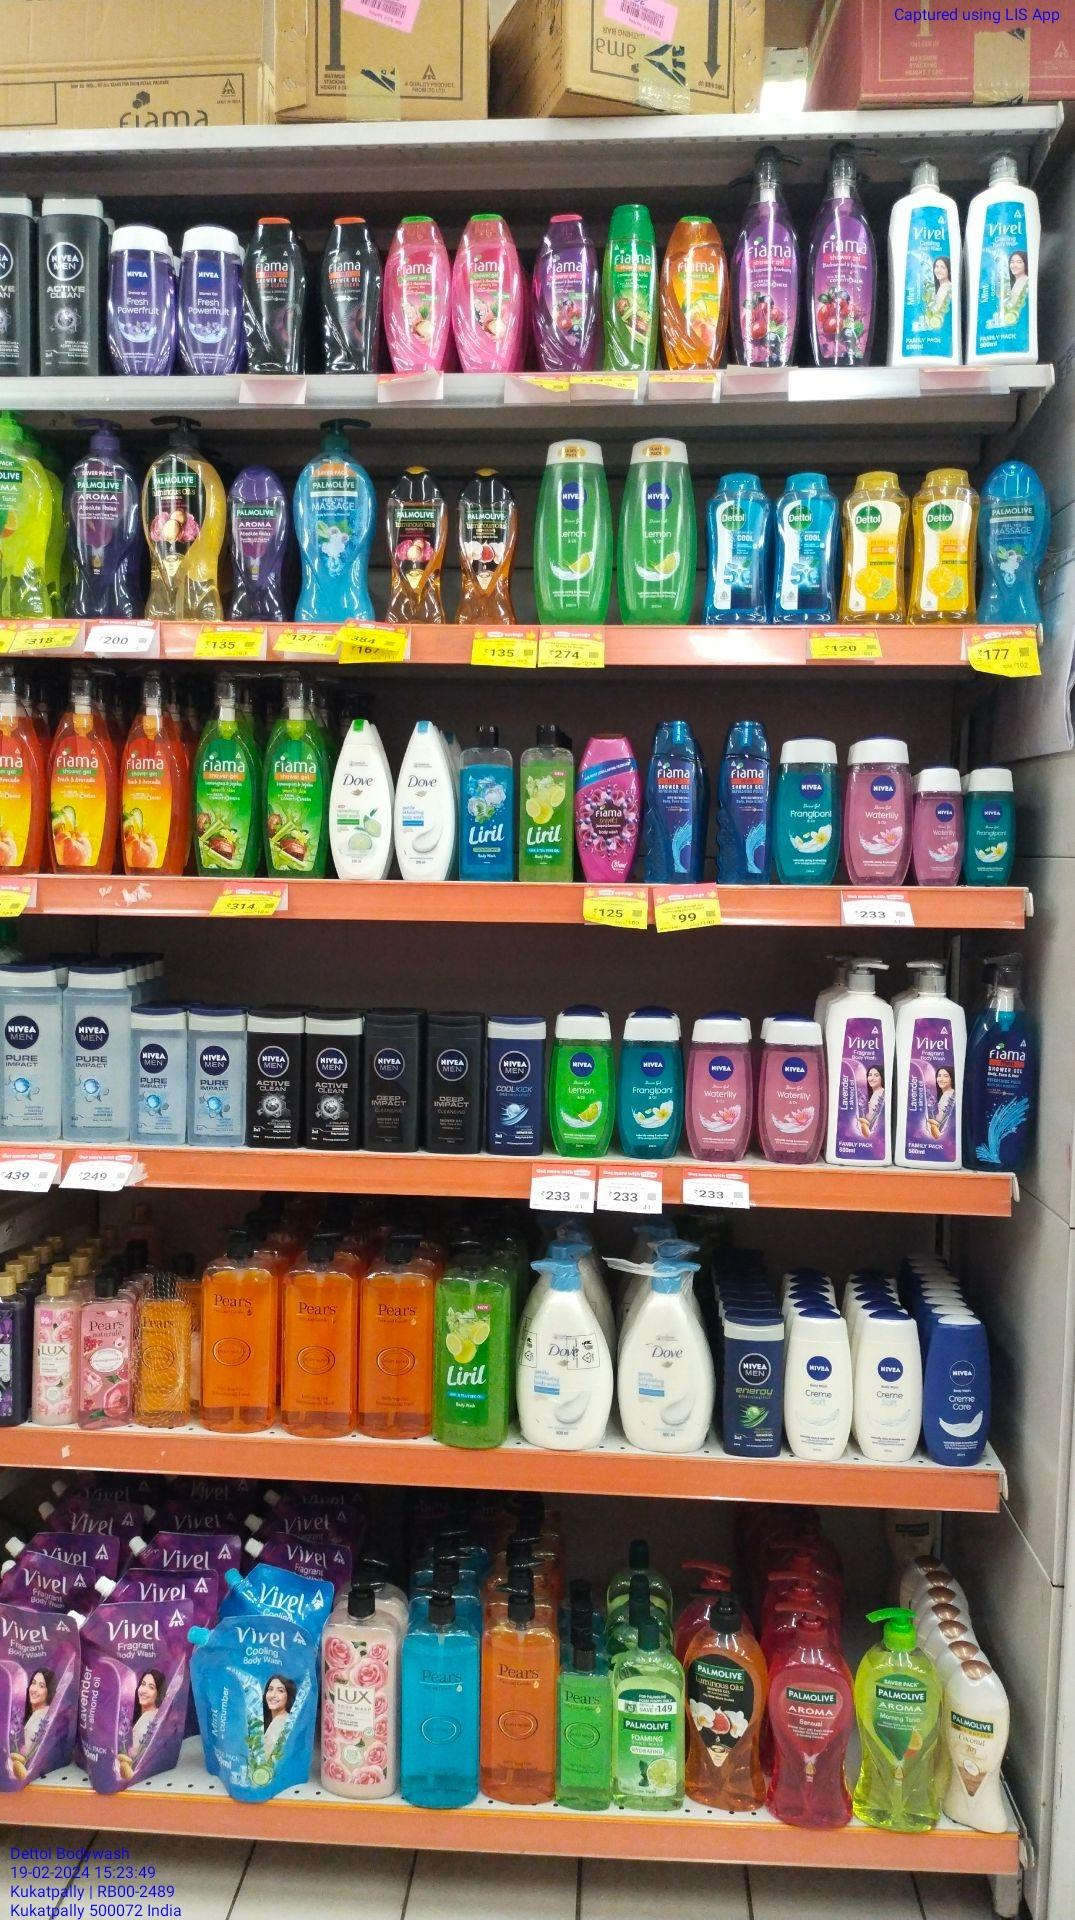Dettol_Bodywash_Cool: (769, 468, 839, 626), (704, 469, 769, 624)
Dettol_Bodywash_Refresh: (909, 464, 979, 625), (842, 468, 909, 624)
Dove_Gentle_Exfoliating_Body_Wash_250ML: (393, 721, 458, 881)
Dove_Refreshing_Body_Wash_250ML: (331, 720, 392, 881)
Fiama_Shower_Gel_Patchouli_and_Macadamia_250ML: (380, 216, 447, 373), (451, 212, 516, 372)
Fiama_Shower_Gel_Peach_and_Avocado_250ML: (662, 216, 727, 369)
Liril_Cooling_Mint_Body_Wash_250ML: (458, 723, 517, 882)
Liril_Lime_and_Tea_Tree_Oil_Body_Wash_250ML: (518, 723, 572, 882)
Nivea_Shower_Gel_Frangipani_and_Oil_250ML: (772, 733, 845, 882), (616, 1009, 683, 1159), (966, 766, 1017, 887)
Nivea_Shower_Gel_Fresh_Powerfruit_250ML: (112, 224, 178, 373), (178, 224, 240, 373)
Nivea_Shower_Gel_Lemon_and_Oil_250ML: (537, 438, 617, 624), (617, 438, 695, 624), (549, 1007, 611, 1158)
Nivea_Shower_Gel_Waterlily_and_Oil_250ML: (687, 1011, 756, 1159), (760, 1017, 824, 1163), (848, 744, 910, 886), (913, 766, 966, 890)
Palmolive_Aroma_Moments_Feel_The_Massage_Shower_Gel_250ML: (979, 464, 1049, 625)
Palmolive_Aroma_Relax_250ML: (228, 465, 289, 622)
Palmolive_Luminous_Oils_With_White_Orchid_Shower_Gel_250ML: (456, 464, 520, 625), (388, 468, 447, 624)
Pears_Pure_Glycerin_and_Lemon_Flower_Extracts_Body_Wash_250ML: (555, 1643, 611, 1809)
